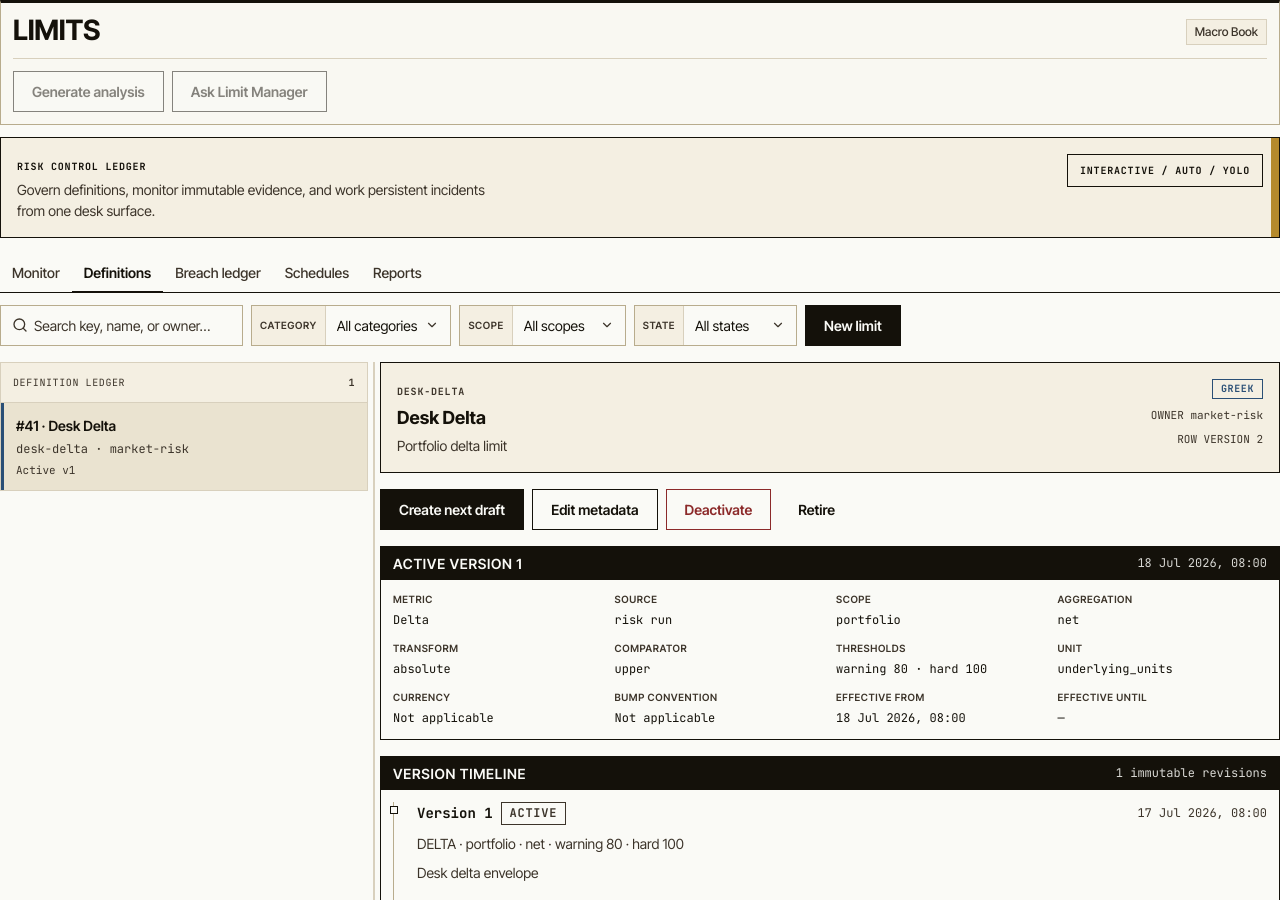
Test: LimitsLive definitions › shows a 409 conflict and refreshes instead of claiming a stale draft succeeded
Expected: the heading "Desk Delta" is shown, left=397, top=407, right=486, bottom=428
Step 1. Click the button "Create next draft" → (452,509), box left=380, top=489, right=524, bottom=530
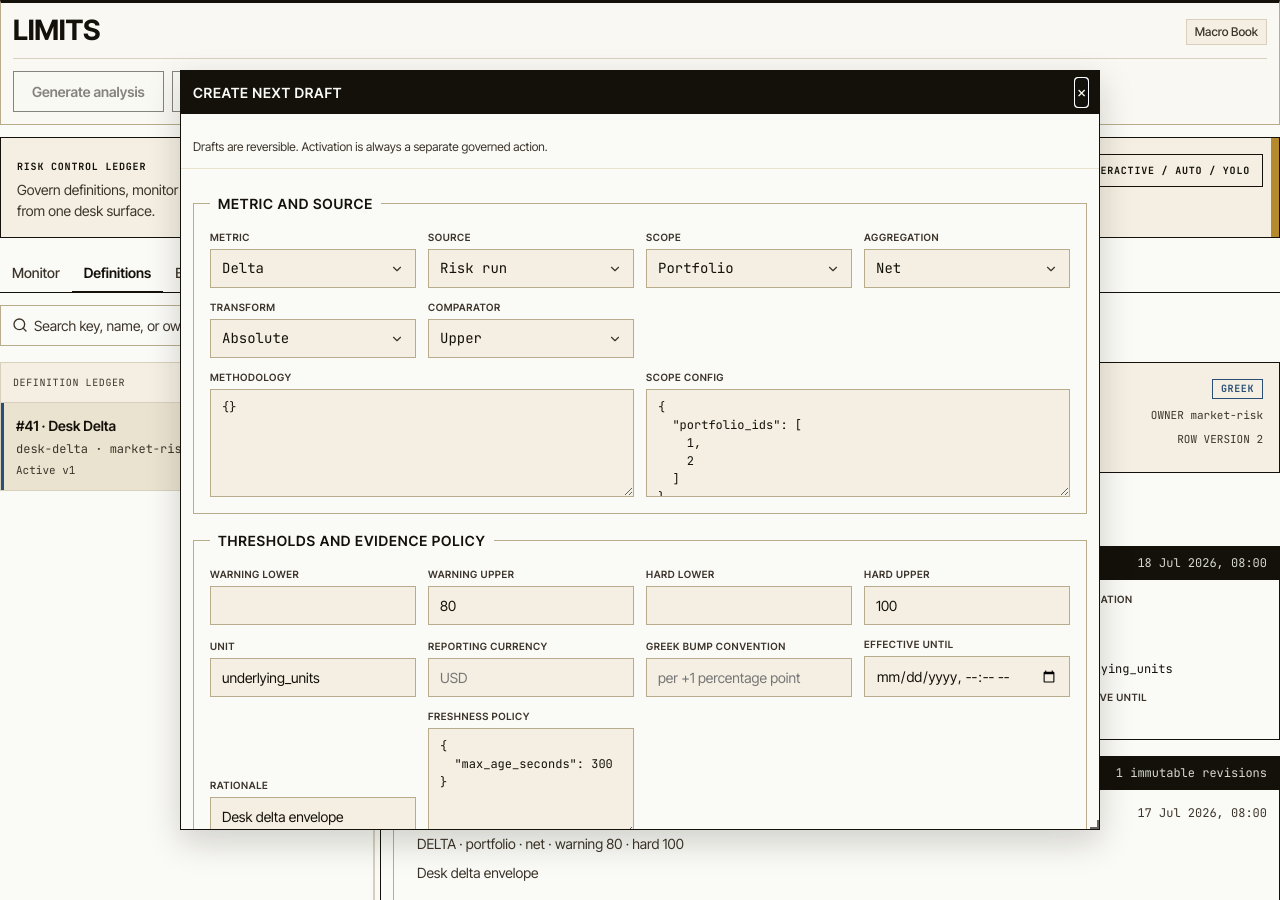
Step 2. Select "Rho" in the dropdown labelled "Metric" → (230,237), box left=210, top=231, right=250, bottom=243
(page scrolled)
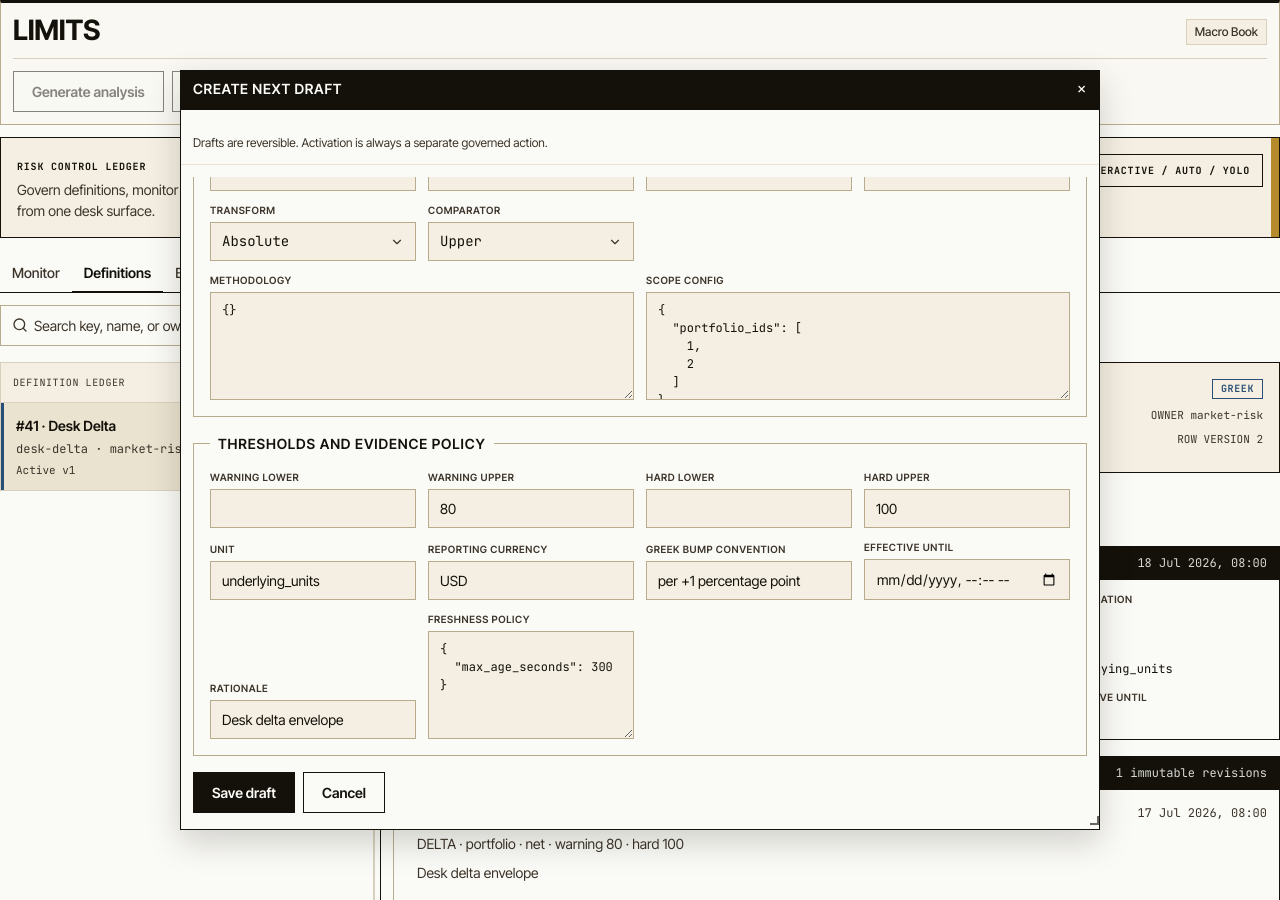
Step 3. Click the button "Save draft" → (244,792), box left=193, top=772, right=295, bottom=813
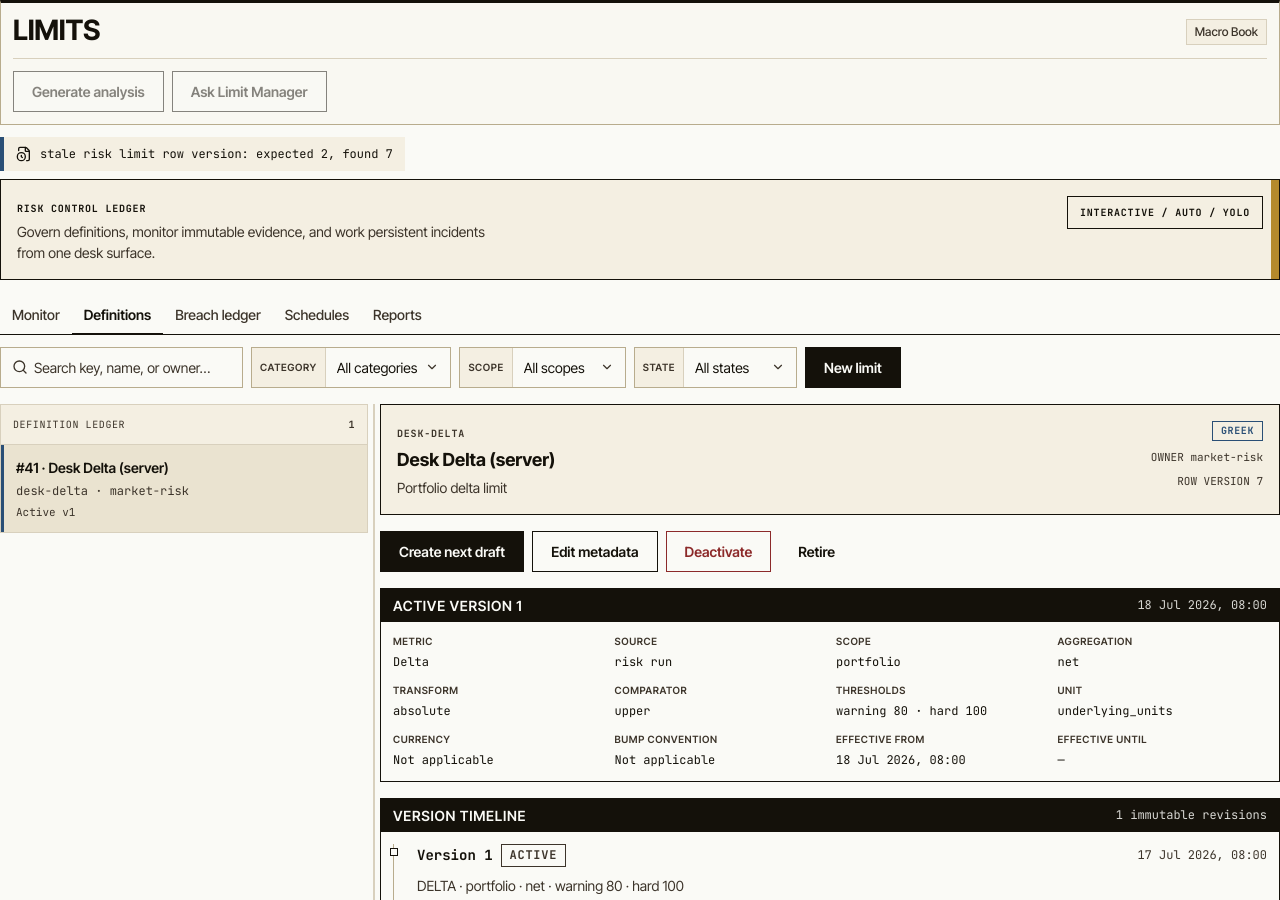
Expected: the text "stale risk limit row version: expected 2, found 7" is shown, left=40, top=145, right=393, bottom=163
Expected: the heading "Desk Delta (server)" is shown, left=397, top=446, right=555, bottom=473
